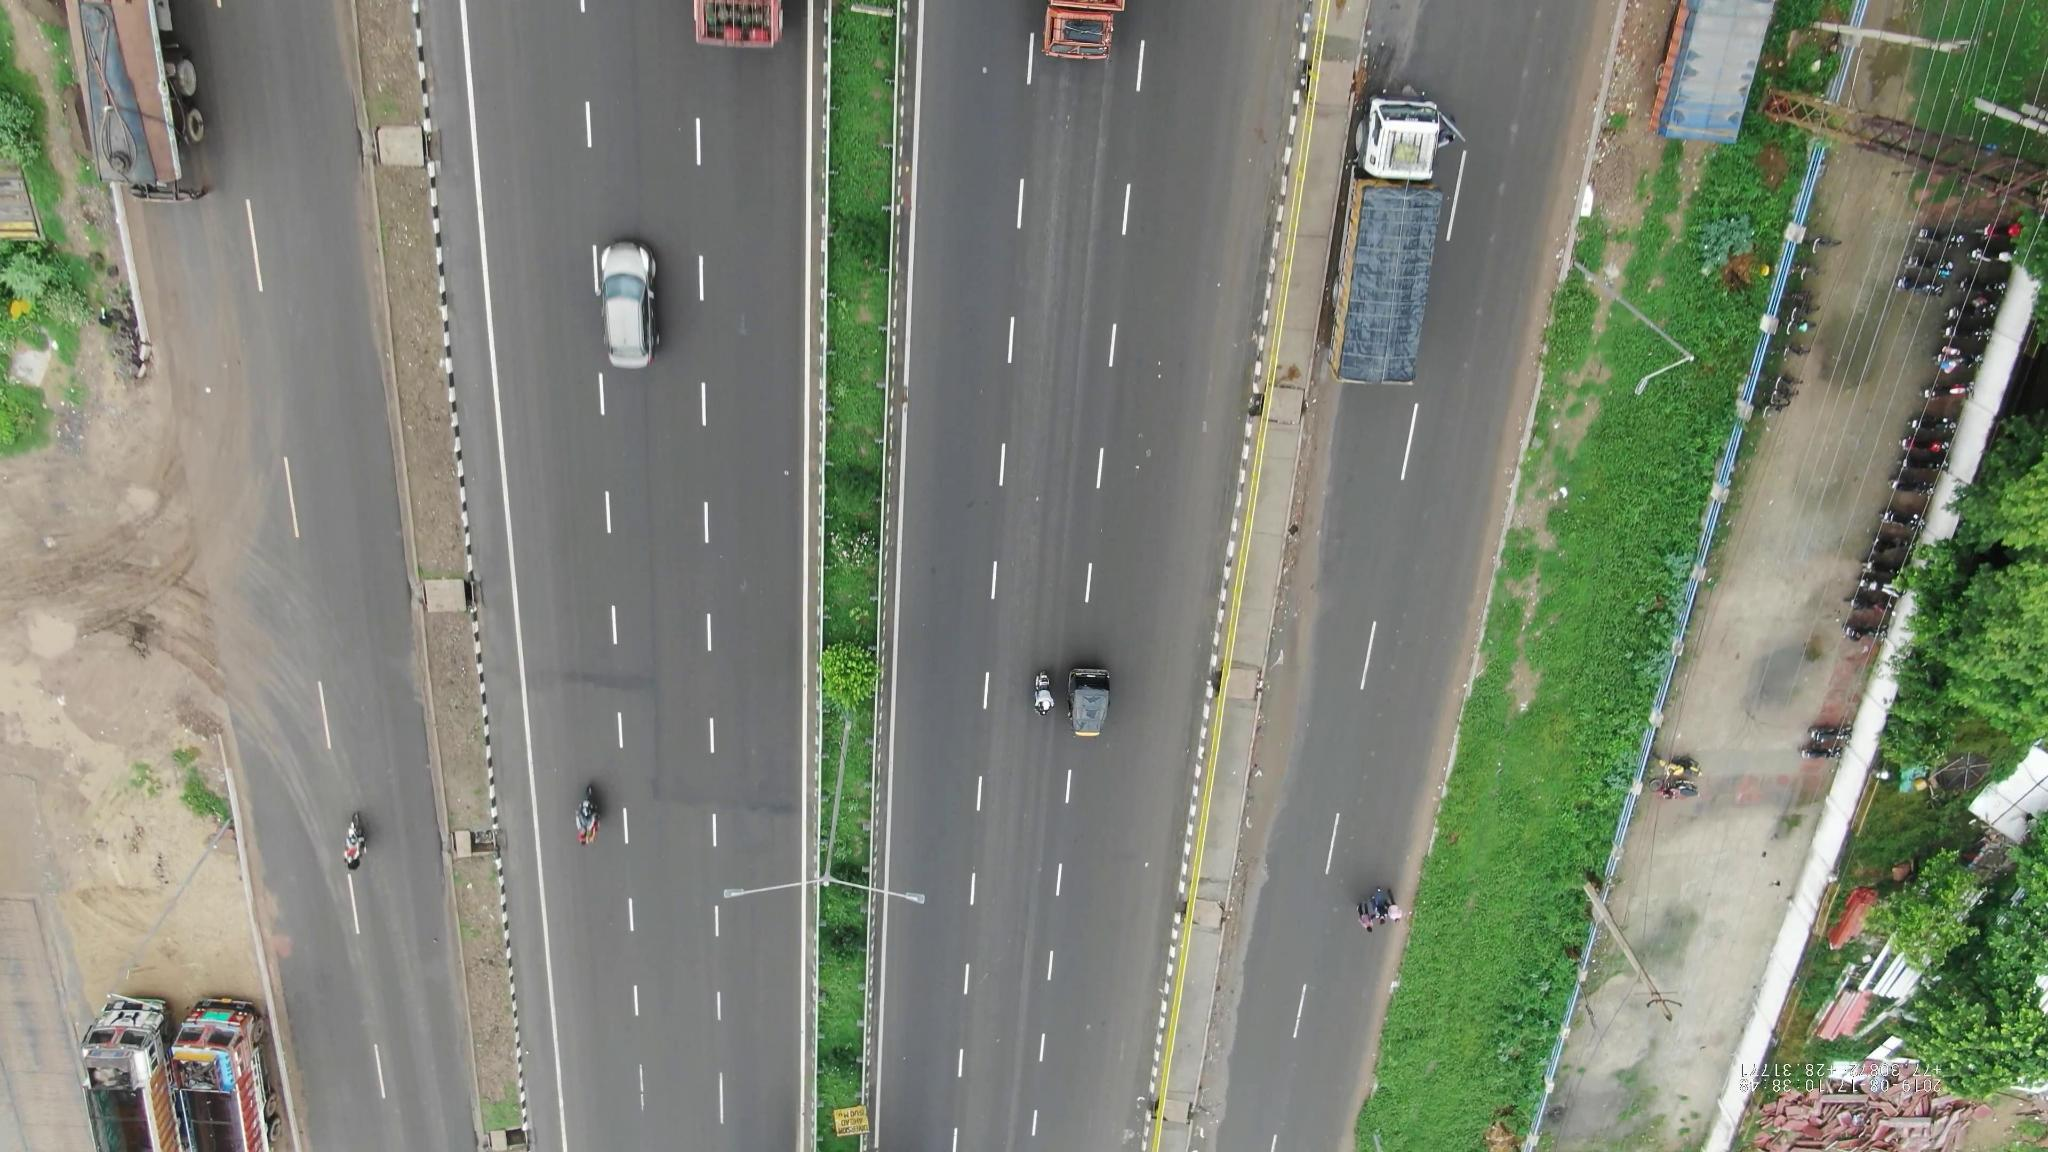Muddy_road: (177, 392, 255, 595)
Potholes: (1384, 556, 1438, 693), (1453, 233, 1499, 385), (1317, 840, 1369, 952), (1345, 708, 1393, 830), (1487, 113, 1532, 221), (1505, 7, 1554, 93)
